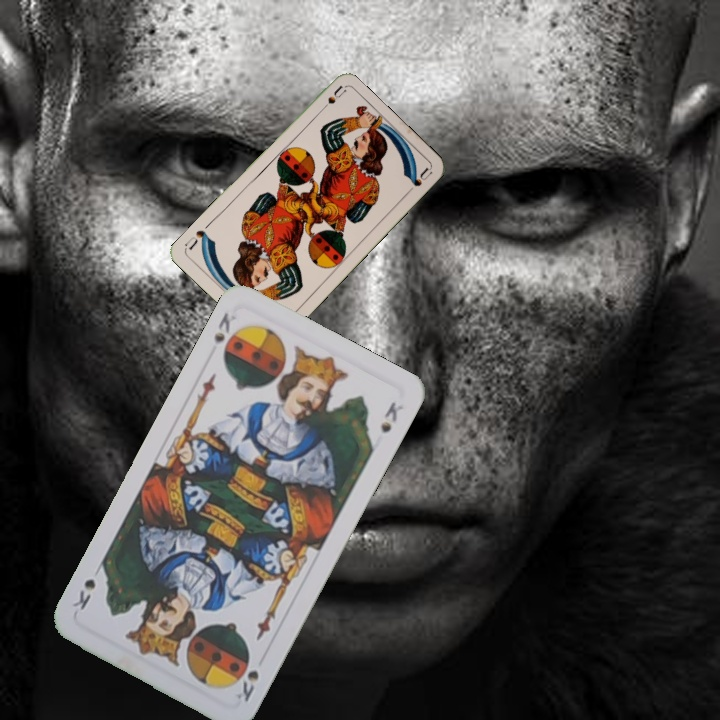SK: (231, 666, 262, 705), (210, 308, 239, 345)
SU: (314, 82, 348, 117)
